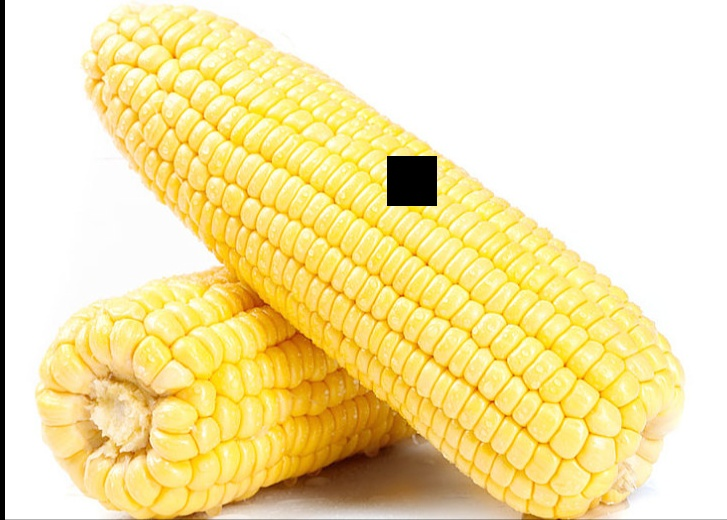corn: (86, 1, 663, 491), (34, 237, 528, 519)
